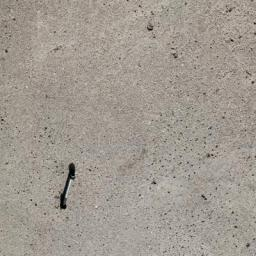FOD: (56, 163, 81, 215)
